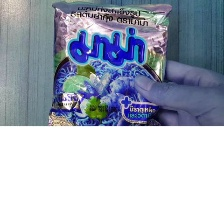snack: (39, 0, 177, 126)
